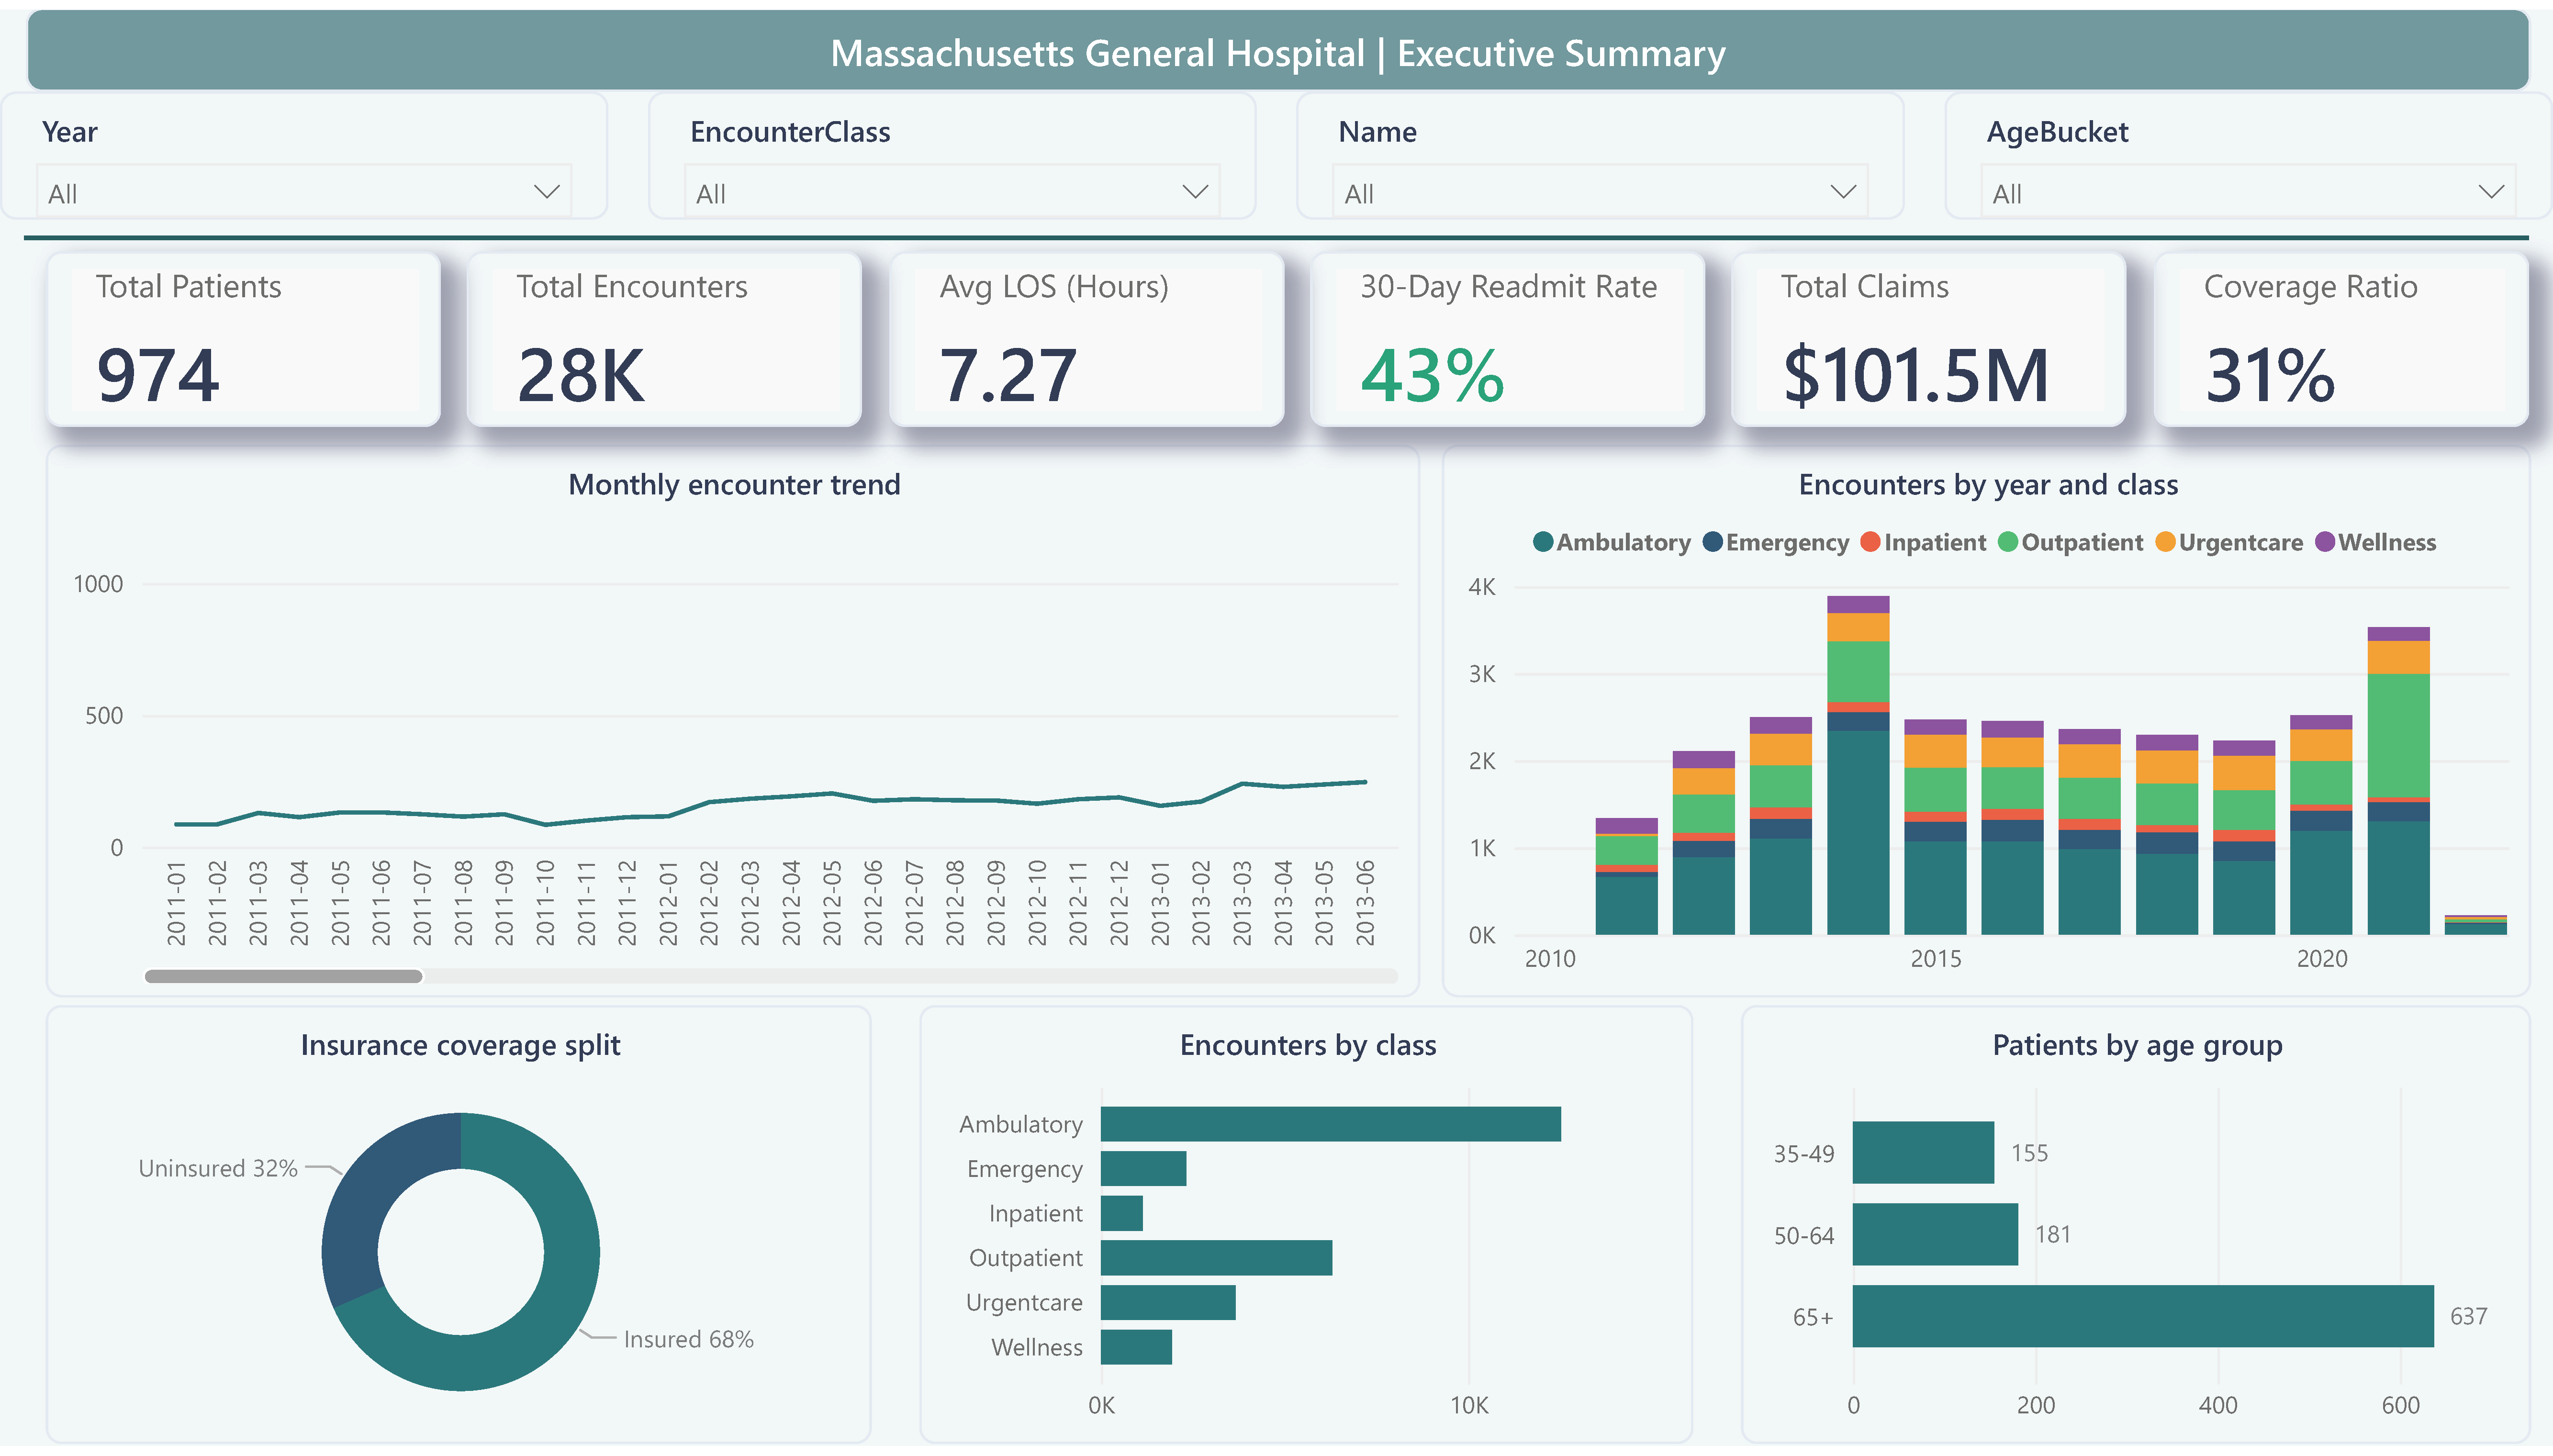

The page's visual inventory and layout, read from the dashboard file:
{"tool":"powerbi","page":{"name":"Executive Summary","canvas":[1280,720],"ordinal":0},"visuals":[{"type":"slicer","fields":{"Values":["DimDate.Year"]},"box":[0,40.8,305,64.2],"z":0,"group":"g2"},{"type":"lineChart","title":"Monthly encounter trend","fields":{"Y":["_Measure.Total Encounters"],"Category":["FactEncounters.YearMonth"]},"box":[23.4,218.1,688.9,277.2],"z":0},{"type":"donutChart","title":"Insurance coverage split","fields":{"Y":["_Measure.Total Encounters"],"Category":["DimPayer.InsuranceStatus"]},"box":[23.4,499.4,414.2,220.1],"z":0,"group":"g3"},{"type":"slicer","fields":{"Values":["FactEncounters.EncounterClass"]},"box":[325,40.8,305,64.2],"z":1000,"group":"g2"},{"type":"lineStackedColumnComboChart","title":"Encounters by year and class","fields":{"Category":["DimDate.Year"],"Y":["_Measure.Total Encounters"],"Series":["DimEncounterClass.EncounterClass"]},"box":[722.5,218.1,546.2,277.2],"z":1000},{"type":"clusteredBarChart","title":"Encounters by class","fields":{"Category":["DimEncounterClass.EncounterClass"],"Y":["_Measure.Total Encounters"]},"box":[461.2,499.4,388.1,220.1],"z":1000,"group":"g3"},{"type":"slicer","fields":{"Values":["DimPayer.Name"]},"box":[650,40.8,305,64.2],"z":2000,"group":"g2"},{"type":"group","id":"g1","title":"Group 1","box":[23.4,121.3,1244.3,87.6],"z":2000},{"type":"clusteredBarChart","title":"Patients by age group","fields":{"Category":["DimPatient.AgeBucket"],"Y":["_Measure.Total Patients"]},"box":[872.9,499.4,395.8,220.1],"z":2000,"group":"g3"},{"type":"textbox","box":[13.2,-1,1255.6,42],"z":3000},{"type":"slicer","fields":{"Values":["DimPatient.AgeBucket"]},"box":[975,40.8,305,64.2],"z":3000,"group":"g2"},{"type":"shape","box":[0,97.8,1280,32.6],"z":4000},{"type":"cardVisual","fields":{"Data":["_Measure.Total Patients"]},"box":[23.4,121.3,198.5,87.6],"z":4000,"group":"g1"},{"type":"group","id":"g2","title":"Group 3","box":[0,40.8,1280,64.2],"z":5000},{"type":"cardVisual","fields":{"Data":["_Measure.Total Encounters"]},"box":[234.7,121.3,198.5,87.6],"z":5000,"group":"g1"},{"type":"cardVisual","title":"Avg LOS (Hours)","fields":{"Data":["_Measure.Avg Length of Stay (Hours)"]},"box":[446,121.3,198.5,87.6],"z":6000,"group":"g1"},{"type":"group","id":"g3","title":"Group 2","box":[23.4,499.4,1245.4,220.1],"z":6000},{"type":"cardVisual","fields":{"Data":["_Measure.Readmission Rate 30-Day"]},"box":[657.3,121.3,198.5,87.6],"z":7000,"group":"g1"},{"type":"cardVisual","fields":{"Data":["_Measure.Total Claims"]},"box":[868.7,121.3,198.5,87.6],"z":8000,"group":"g1"},{"type":"cardVisual","fields":{"Data":["_Measure.Coverage Ratio"]},"box":[1080,121.3,187.8,87.6],"z":9000,"group":"g1"}]}

Visuals, with their boxes in screenshot pixels (x1, y1, x2, y2), scaled from the page's 1280x720 canvas onto the 2553x1456 screenshot:
slicer - DimDate.Year: detection(0, 82, 608, 213)
"Monthly encounter trend" lineChart: detection(47, 441, 1421, 1002)
"Insurance coverage split" donutChart: detection(47, 1010, 873, 1455)
slicer - FactEncounters.EncounterClass: detection(648, 82, 1256, 213)
"Encounters by year and class" lineStackedColumnComboChart: detection(1441, 441, 2531, 1002)
"Encounters by class" clusteredBarChart: detection(920, 1010, 1694, 1455)
slicer - DimPayer.Name: detection(1297, 82, 1905, 213)
"Group 1" group: detection(47, 245, 2529, 423)
"Patients by age group" clusteredBarChart: detection(1741, 1010, 2531, 1455)
textbox: detection(26, 0, 2531, 83)
slicer - DimPatient.AgeBucket: detection(1945, 82, 2553, 213)
shape: detection(0, 198, 2553, 264)
cardVisual - _Measure.Total Patients: detection(47, 245, 443, 423)
"Group 3" group: detection(0, 82, 2553, 213)
cardVisual - _Measure.Total Encounters: detection(468, 245, 864, 423)
"Avg LOS (Hours)" cardVisual: detection(890, 245, 1286, 423)
"Group 2" group: detection(47, 1010, 2531, 1455)
cardVisual - _Measure.Readmission Rate 30-Day: detection(1311, 245, 1707, 423)
cardVisual - _Measure.Total Claims: detection(1733, 245, 2128, 423)
cardVisual - _Measure.Coverage Ratio: detection(2154, 245, 2529, 423)
